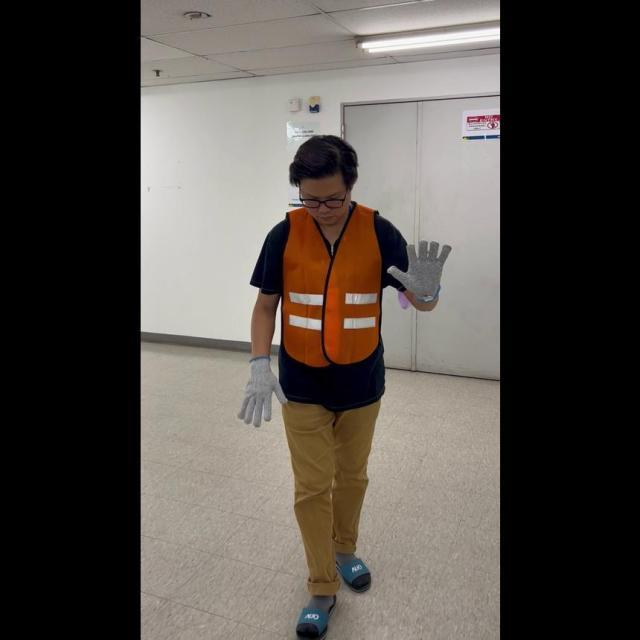gloved_hand: (385, 236, 450, 299), (236, 353, 285, 423)
